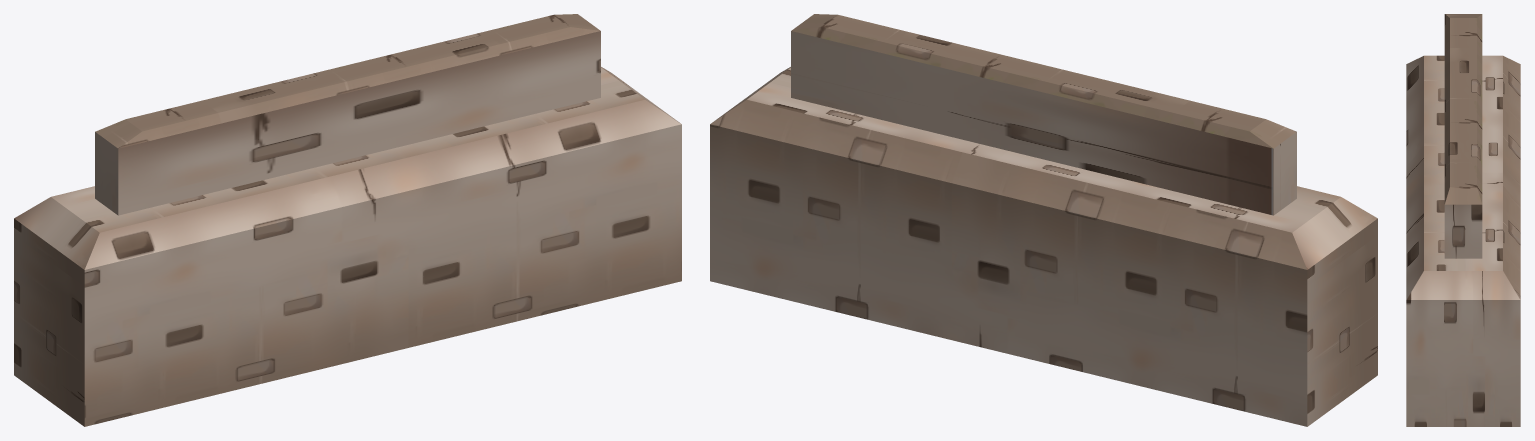
Rendered from BrickWall.fbx.
3 renders of one model, left to right at view 1: azimuth 30°, elevation 25°; view 2: azimuth 150°, elevation 25°; view 3: azimuth 270°, elevation 25°, orthographic. The views are drawn at different scales.
Visible parts, largest first — view 1: Cube; view 2: Cube; view 3: Cube.
Part boxes in pixels (box(x1,y1,x2,y2)): Cube: box(14, 14, 681, 426); Cube: box(710, 14, 1377, 426); Cube: box(1406, 14, 1520, 426).
Size of the model in its own units: 200 by 81.64 by 40.87.
